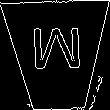M_S: (29, 30, 85, 81)
